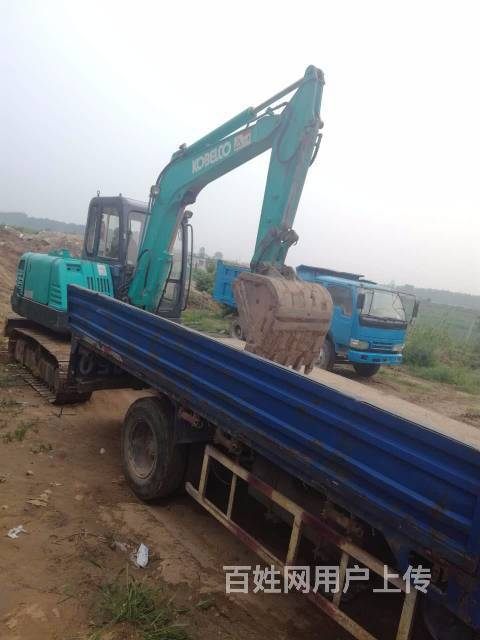excavator: (3, 56, 358, 416)
